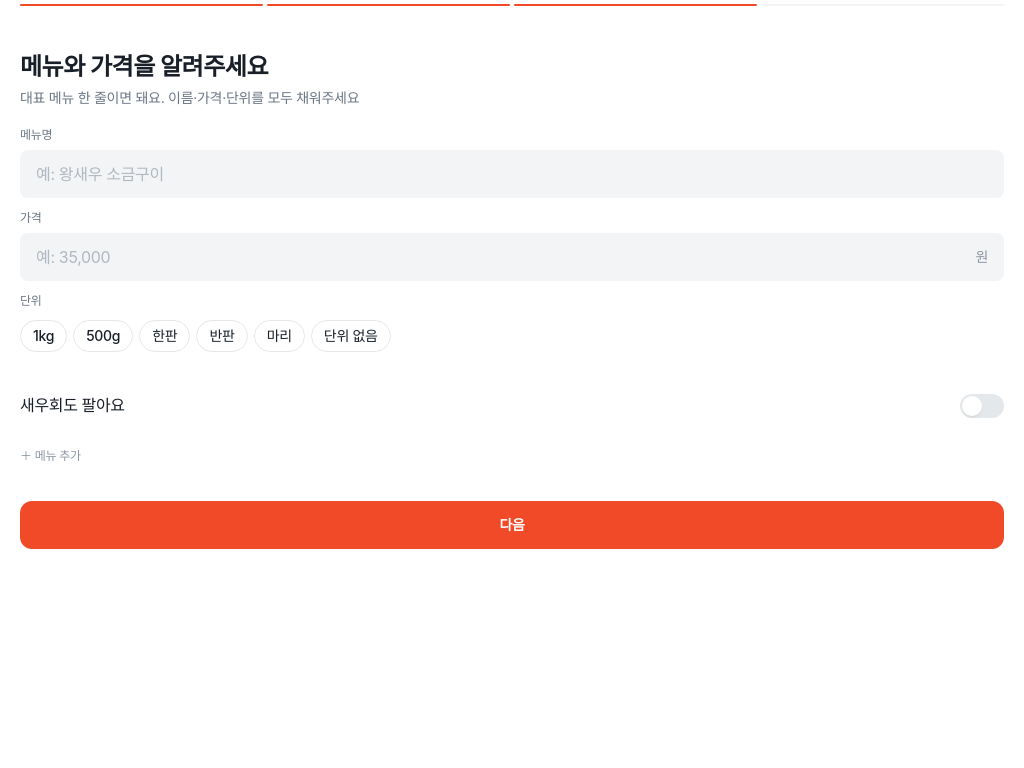
ReportPanel 3단계 — 메뉴와 가격 › 빈 채로 [다음] → 이름·가격·단위 오류 세 줄, 고치면 그 오류만 사라진다
The width and height of the screenshot is (1024, 768).
Click the button "다음". click: (512, 525)
box: [20,501,1004,549]
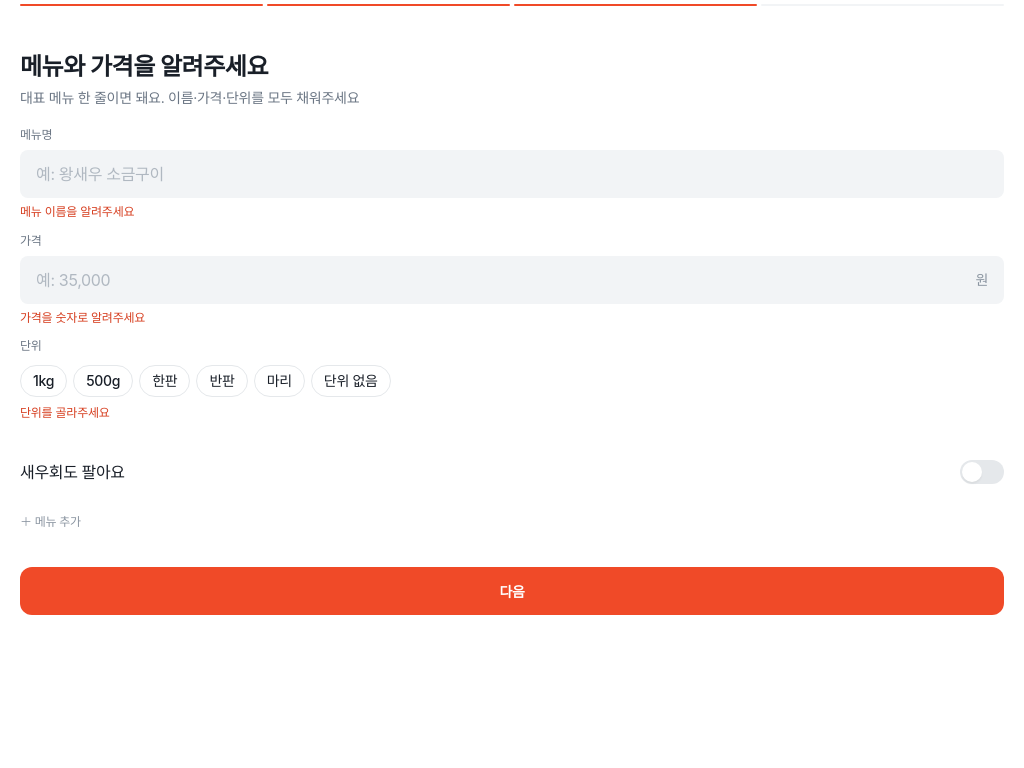
Expected: the messages read "메뉴 이름을 알려주세요", "가격을 숫자로 알려주세요", "단위를 골라주세요", in this order, [20,204,134,219]; [20,310,145,325]; [20,405,110,420]
Type "왕새우 소금구이" into the field labelled "메뉴명". click: (512, 174)
box: [36,150,988,198]
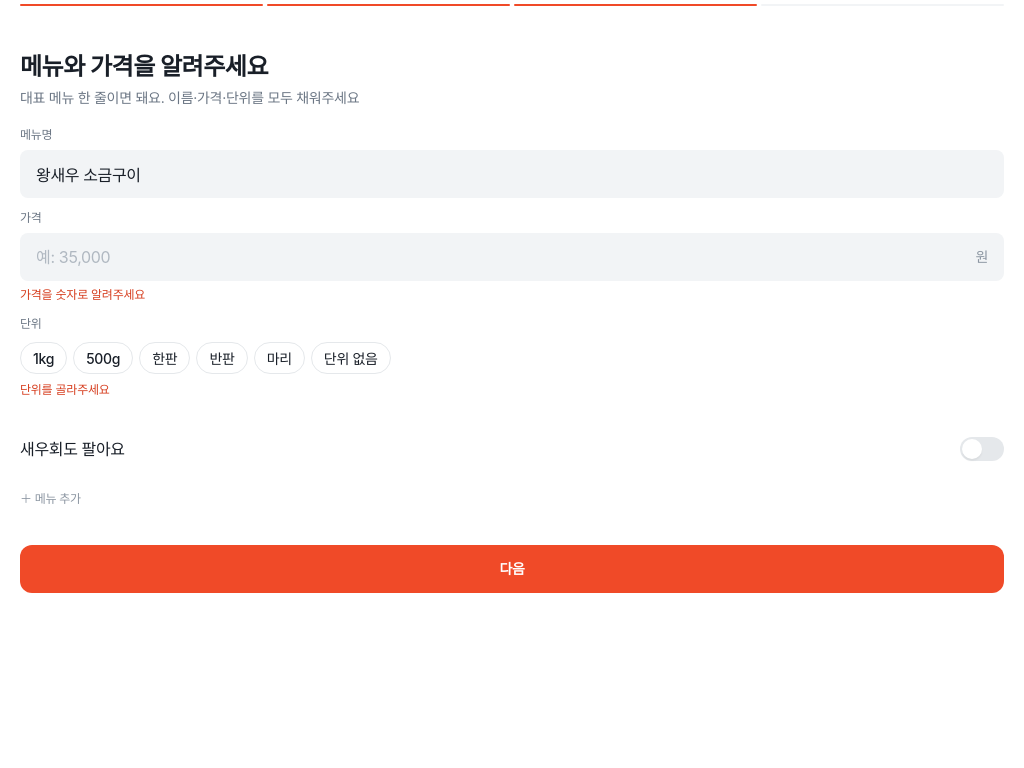
Expected: the number of messages is 2, [20,287,145,302]; [20,382,110,397]
